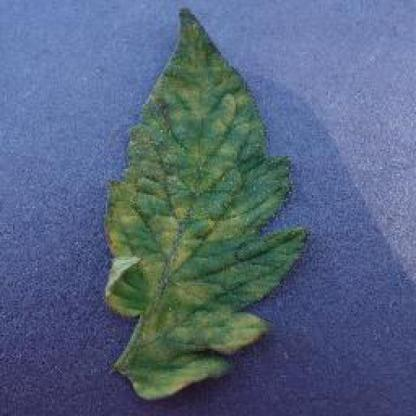Tomato_Leaf_Mold: (110, 12, 308, 393)
